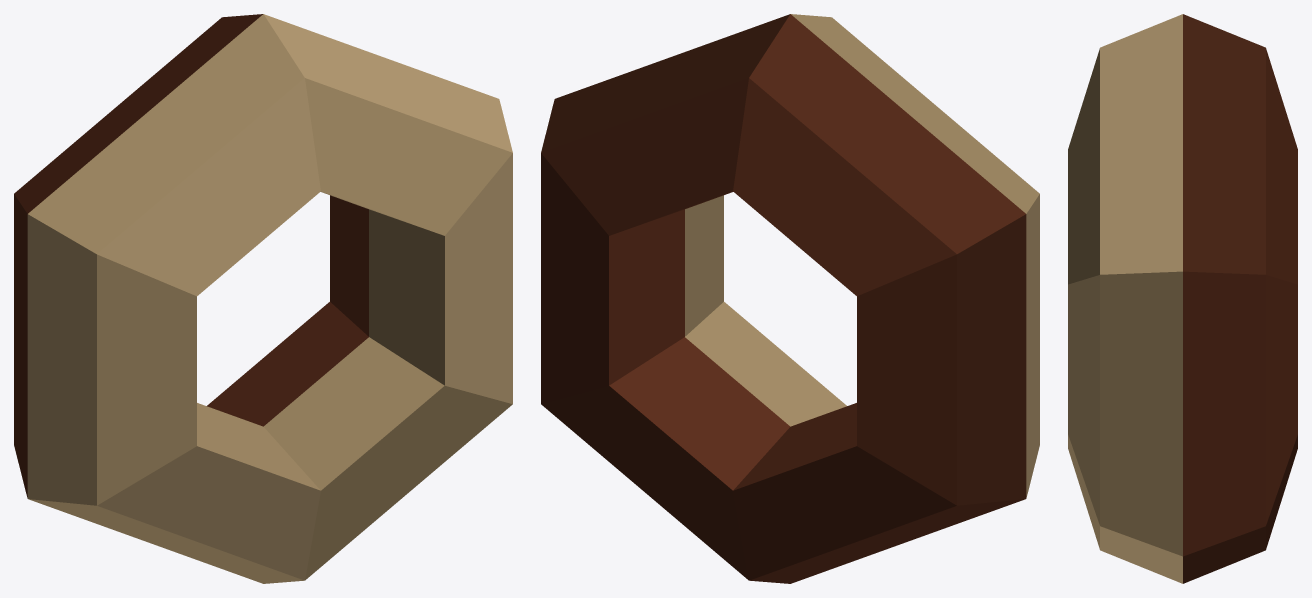
Rendered from pink_donut_2.fbx.
3 views of the same model, side by side, from view 1: azimuth 30°, elevation 25°; view 2: azimuth 150°, elevation 25°; view 3: azimuth 270°, elevation 25° (orthographic).
Parts seen in each view (by area): view 1: pink_donut_2; view 2: pink_donut_2; view 3: pink_donut_2.
Boxes of the visible parts, x1,y1,x2,y2 form: pink_donut_2: (14, 14, 512, 583); pink_donut_2: (541, 14, 1039, 583); pink_donut_2: (1068, 14, 1297, 583).
Bounding box in the file's own units: 315 × 364 × 133.
